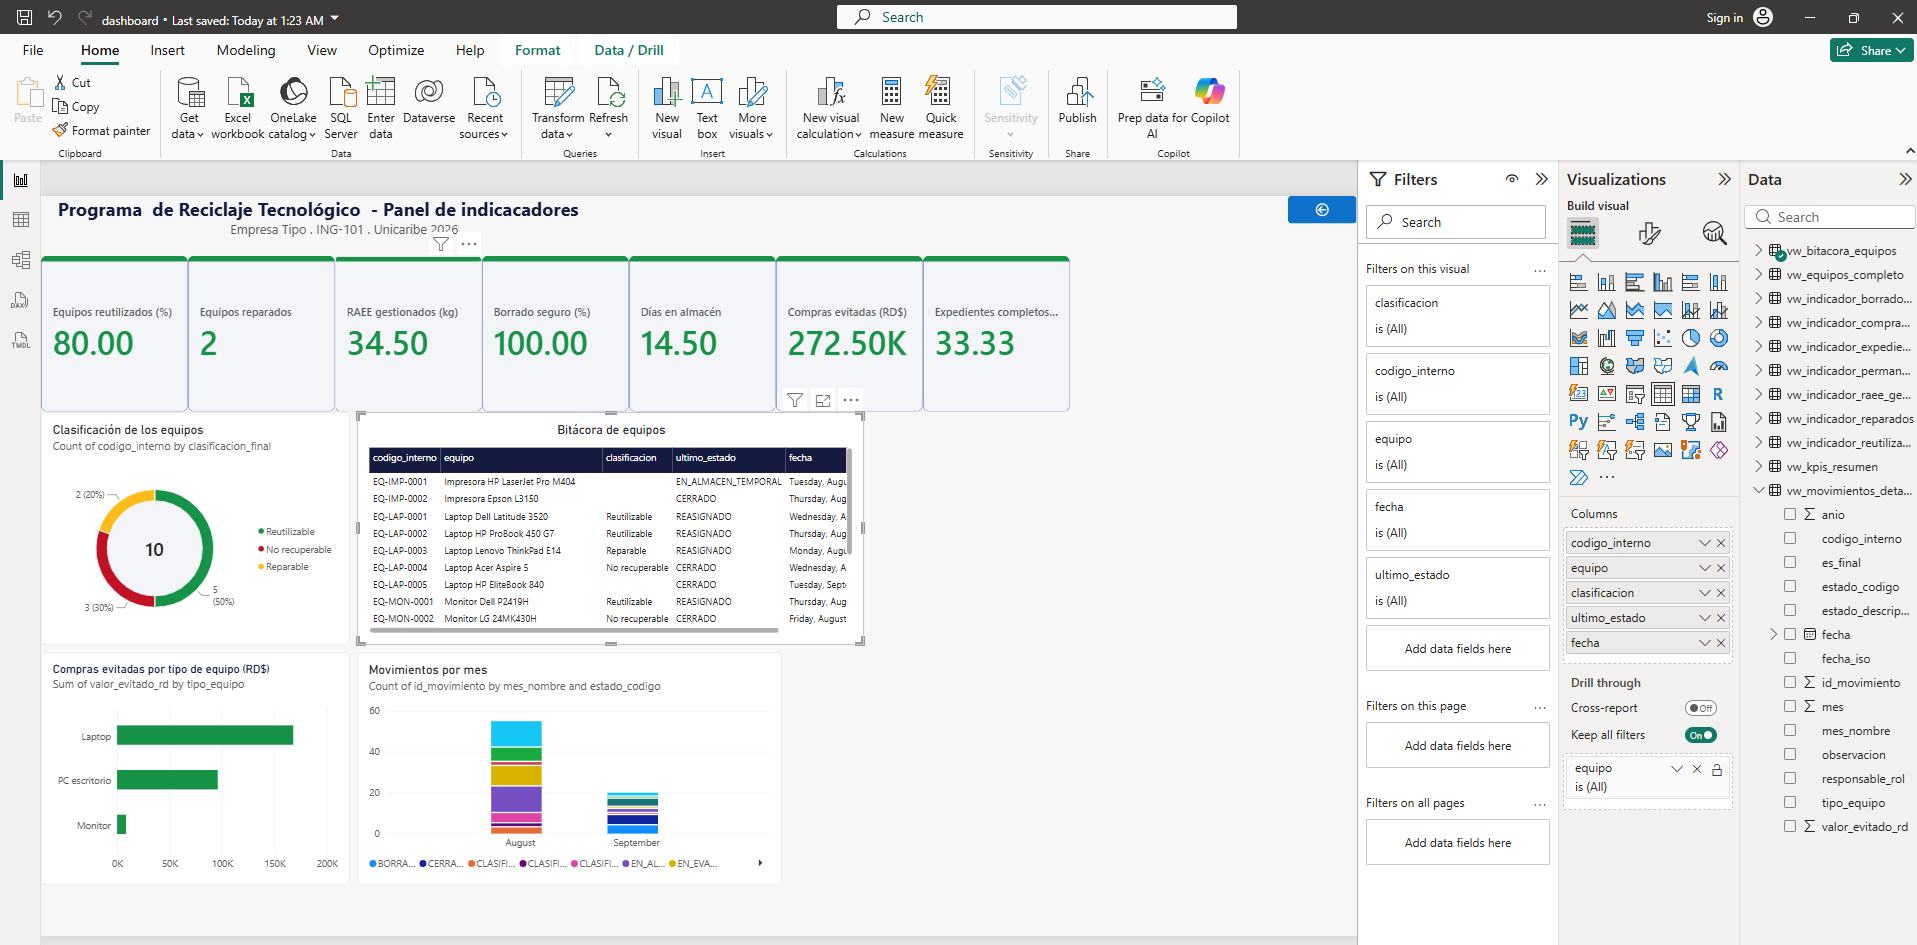

The page's visual inventory and layout, read from the dashboard file:
{"tool":"powerbi","page":{"name":"Page 1","canvas":[1920,1080],"ordinal":0},"visuals":[{"type":"textbox","box":[10.2,0,1909.8,315.1],"z":0},{"type":"cardVisual","fields":{"Data":["Sum(vw_kpis_resumen.pct_reutilizados)"]},"box":[0,87.5,214.5,227.6],"z":1000},{"type":"cardVisual","fields":{"Data":["Sum(vw_kpis_resumen.equipos_reparados)"]},"box":[214.5,87.5,214.5,227.6],"z":2000},{"type":"cardVisual","fields":{"Data":["Sum(vw_kpis_resumen.kg_raee_gestionados)"]},"box":[428.9,87.5,214.5,227.6],"z":3000},{"type":"cardVisual","fields":{"Data":["Sum(vw_kpis_resumen.pct_borrado_doc)"]},"box":[643.4,87.5,214.5,227.6],"z":4000},{"type":"cardVisual","fields":{"Data":["Sum(vw_kpis_resumen.dias_permanencia)"]},"box":[857.9,87.5,214.5,227.6],"z":5000},{"type":"cardVisual","fields":{"Data":["Sum(vw_kpis_resumen.rd_compras_evitadas)"]},"box":[1072.3,87.5,214.5,227.6],"z":6000},{"type":"cardVisual","fields":{"Data":["Sum(vw_kpis_resumen.pct_expedientes)"]},"box":[1286.8,87.5,214.5,227.6],"z":7000},{"type":"donutChart","title":"Clasificación de los equipos","fields":{"Category":["vw_equipos_completo.clasificacion_final"],"Y":["CountNonNull(vw_equipos_completo.codigo_interno)"]},"box":[0,315.1,450,340],"z":8000},{"type":"tableEx","title":"Bitácora de equipos","fields":{"Values":["vw_bitacora_equipos.codigo_interno","vw_bitacora_equipos.equipo","vw_bitacora_equipos.clasificacion","vw_bitacora_equipos.ultimo_estado","vw_bitacora_equipos.fecha"]},"box":[461,315.1,740,340],"z":9000},{"type":"actionButton","box":[1819.3,0,100,40],"z":10000},{"type":"barChart","title":"Compras evitadas por tipo de equipo (RD$)","fields":{"Category":["vw_movimientos_detalle.tipo_equipo"],"Y":["Sum(vw_movimientos_detalle.valor_evitado_rd)"]},"box":[0,665,450,340],"z":11000},{"type":"columnChart","title":"Movimientos por mes","fields":{"Category":["vw_movimientos_detalle.mes_nombre"],"Series":["vw_movimientos_detalle.estado_codigo"],"Y":["CountNonNull(vw_movimientos_detalle.id_movimiento)"]},"box":[461,665.3,620.1,339.9],"z":11001}]}

Visuals, with their boxes on the page's 1920x1080 design canvas (x1, y1, x2, y2). These are canvas units, not pixel positions in the 1917x945 screenshot, which may show the page scaled, cropped or inside an application window:
textbox: box=[10, 0, 1920, 315]
cardVisual - Sum(vw_kpis_resumen.pct_reutilizados): box=[0, 88, 214, 315]
cardVisual - Sum(vw_kpis_resumen.equipos_reparados): box=[214, 88, 429, 315]
cardVisual - Sum(vw_kpis_resumen.kg_raee_gestionados): box=[429, 88, 643, 315]
cardVisual - Sum(vw_kpis_resumen.pct_borrado_doc): box=[643, 88, 858, 315]
cardVisual - Sum(vw_kpis_resumen.dias_permanencia): box=[858, 88, 1072, 315]
cardVisual - Sum(vw_kpis_resumen.rd_compras_evitadas): box=[1072, 88, 1287, 315]
cardVisual - Sum(vw_kpis_resumen.pct_expedientes): box=[1287, 88, 1501, 315]
"Clasificación de los equipos" donutChart: box=[0, 315, 450, 655]
"Bitácora de equipos" tableEx: box=[461, 315, 1201, 655]
actionButton: box=[1819, 0, 1919, 40]
"Compras evitadas por tipo de equipo (RD$)" barChart: box=[0, 665, 450, 1005]
"Movimientos por mes" columnChart: box=[461, 665, 1081, 1005]
